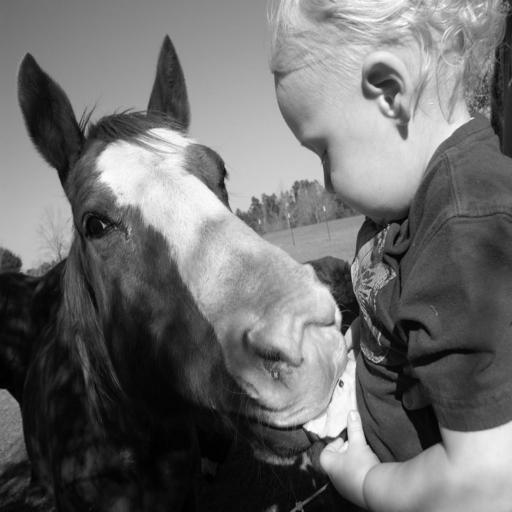horse: (0, 32, 354, 512)
